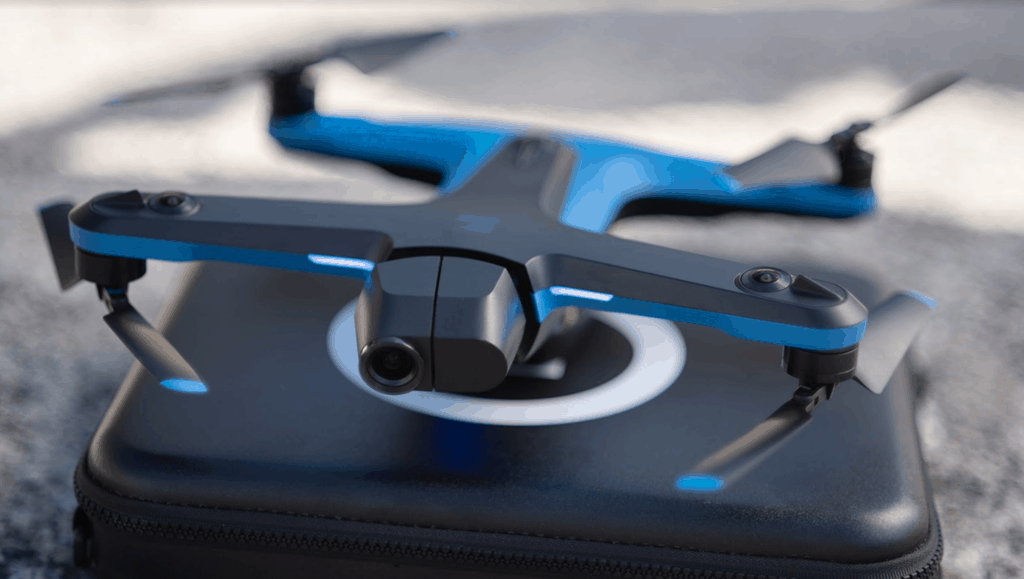drone: (33, 20, 976, 503)
